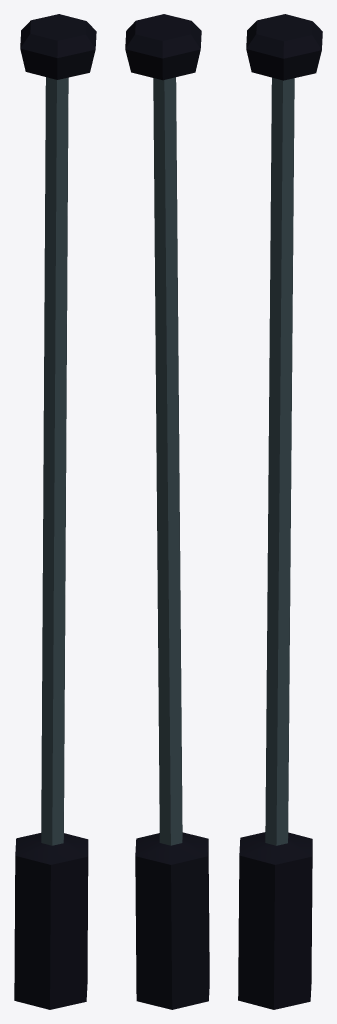
The model's file is Antena.fbx.
3 views of the same model, side by side, from view 1: azimuth 30°, elevation 25°; view 2: azimuth 150°, elevation 25°; view 3: azimuth 330°, elevation 25° (orthographic).
Parts seen in each view (by area): view 1: Antena; view 2: Antena; view 3: Antena.
Part boxes in pixels (left/top/right/bottom): Antena: left=14, top=14, right=96, bottom=1009; Antena: left=125, top=14, right=209, bottom=1009; Antena: left=238, top=14, right=322, bottom=1009.
Size of the model in its own units: 10.09 by 113 by 8.16.
1 material, 1 textured.
